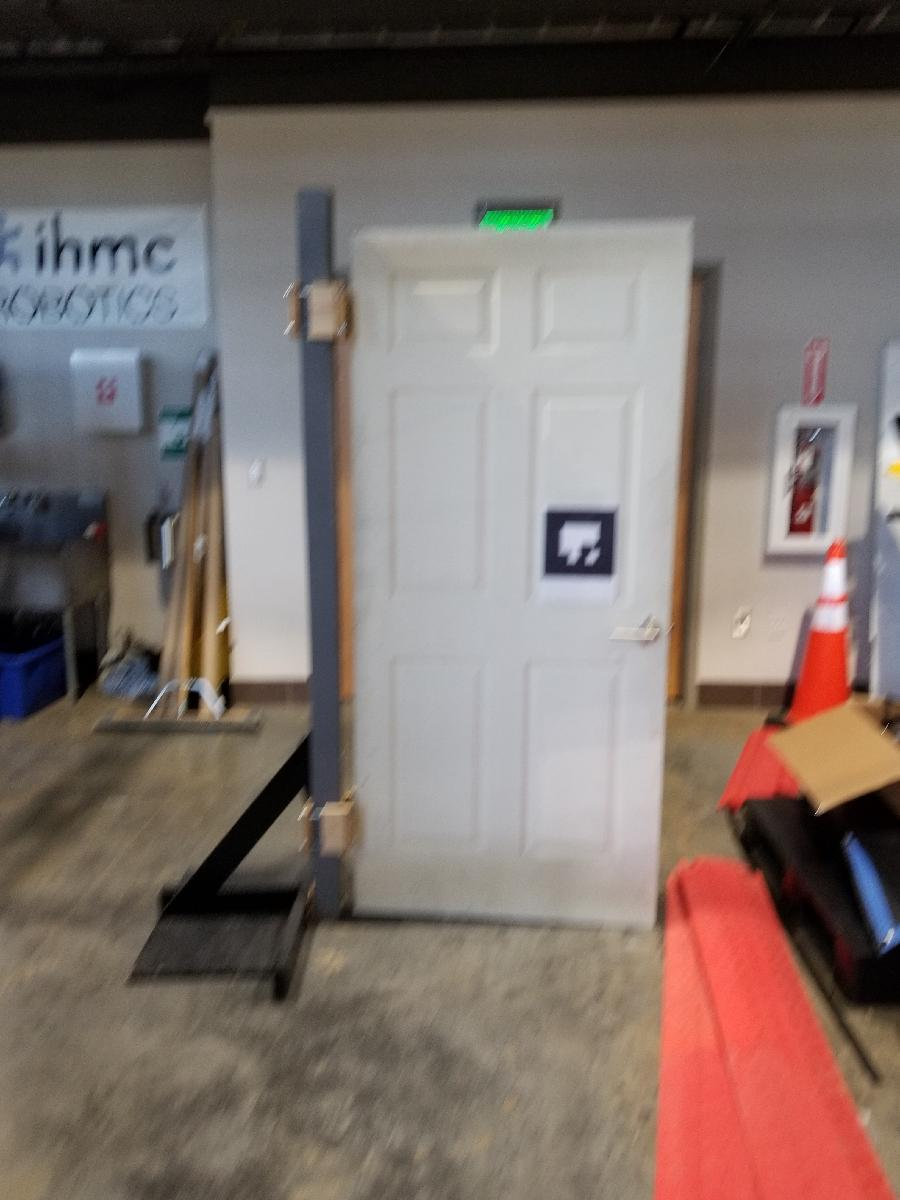door: (348, 228, 670, 929)
handle: (616, 608, 671, 651)
